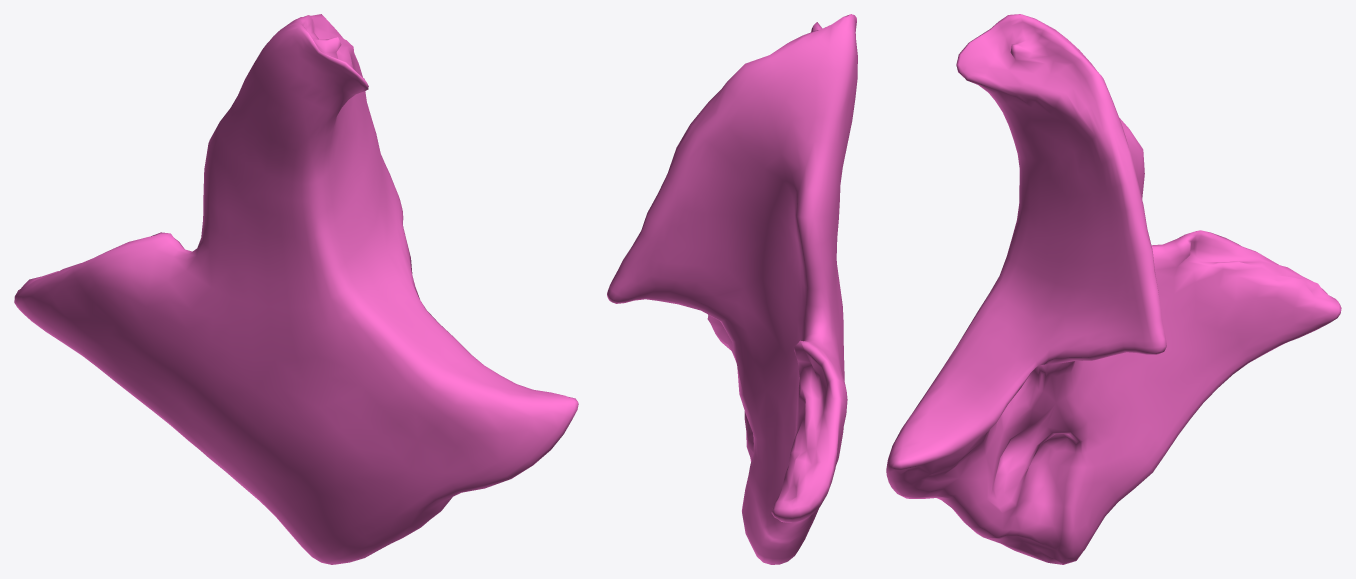
File: Cigomatico_Derecho.glb
3 views of the same model, side by side, from view 1: azimuth 30°, elevation 25°; view 2: azimuth 150°, elevation 25°; view 3: azimuth 270°, elevation 25° (orthographic). The views are drawn at different scales.
Visible parts, largest first — view 1: Cigomático Derecho; view 2: Cigomático Derecho; view 3: Cigomático Derecho.
Part boxes in pixels (x1,y1,x2,y2): Cigomático Derecho: (14, 14, 578, 564); Cigomático Derecho: (607, 14, 857, 564); Cigomático Derecho: (886, 14, 1341, 564).
Size of the model in its own units: 0.0311 by 0.0488 by 0.0382.
